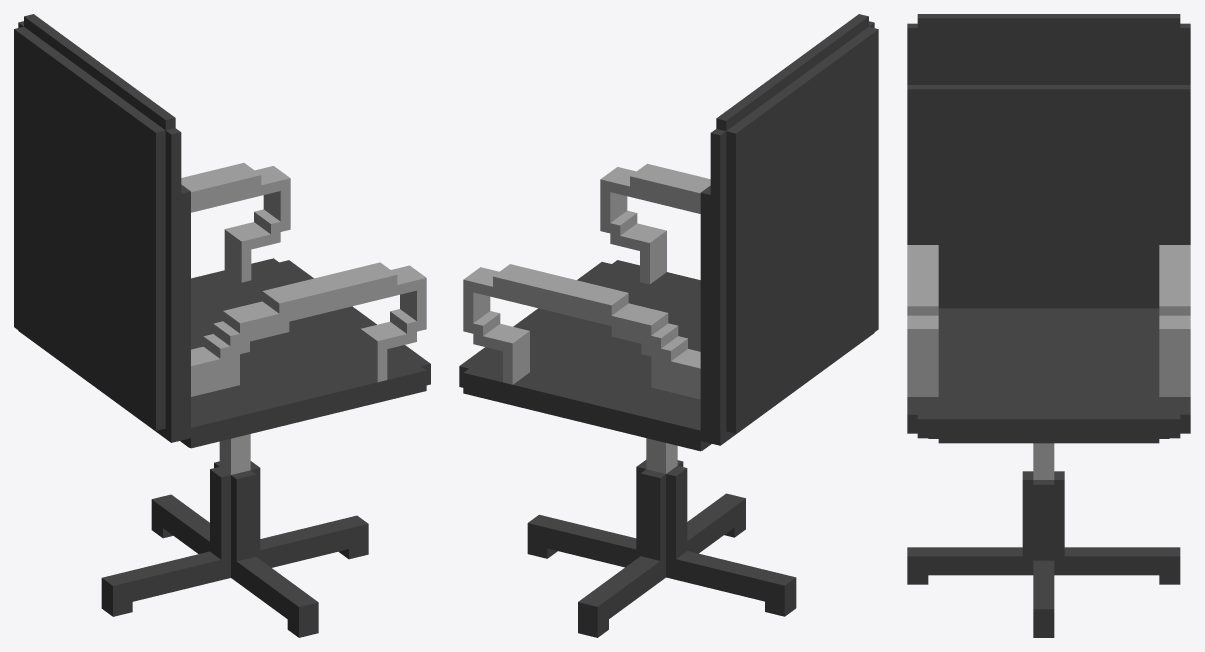
Rendered from SchoolPack-76-chair.obj.
The picture shows the model from 3 angles, left to right: view 1: azimuth 30°, elevation 25°; view 2: azimuth 150°, elevation 25°; view 3: azimuth 270°, elevation 25°; orthographic projection. The views are drawn at different scales.
Parts seen in each view (by area): view 1: chair; view 2: chair; view 3: chair.
Part boxes in pixels (x1=…): chair: x1=14, y1=14, x2=430, y2=637; chair: x1=459, y1=14, x2=878, y2=637; chair: x1=907, y1=14, x2=1190, y2=637.
Size of the model in its own units: 2.8 by 5.3 by 2.7.
1 material, 1 textured.
